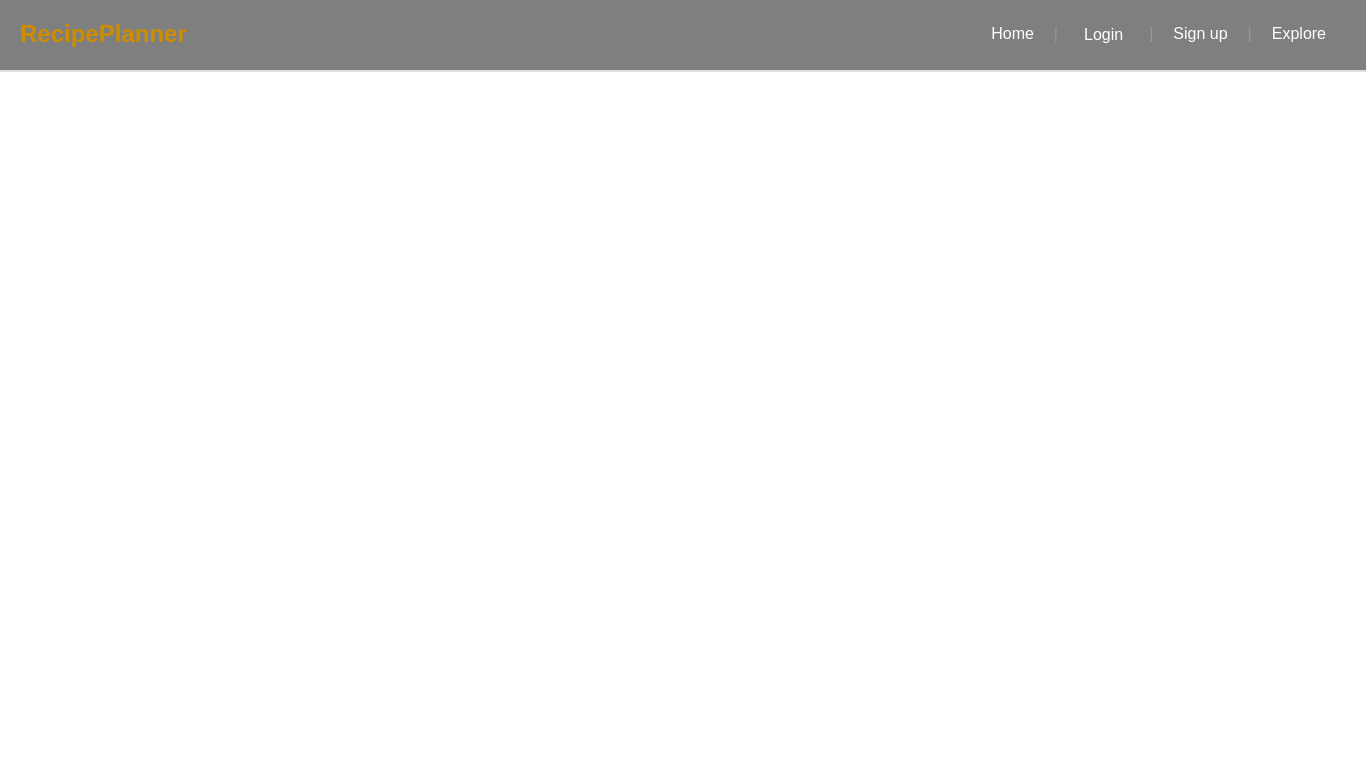
Test: Navbar Component › should display links and handle login modal correctly when user is not logged in
Expected: the link "Home" is shown, [991,25,1034,42]
Expected: the link "Sign up" is shown, [1173,25,1228,42]
// Click the Login button to open the modal
Click the button "Login": (1104, 35) [1078,25,1129,45]
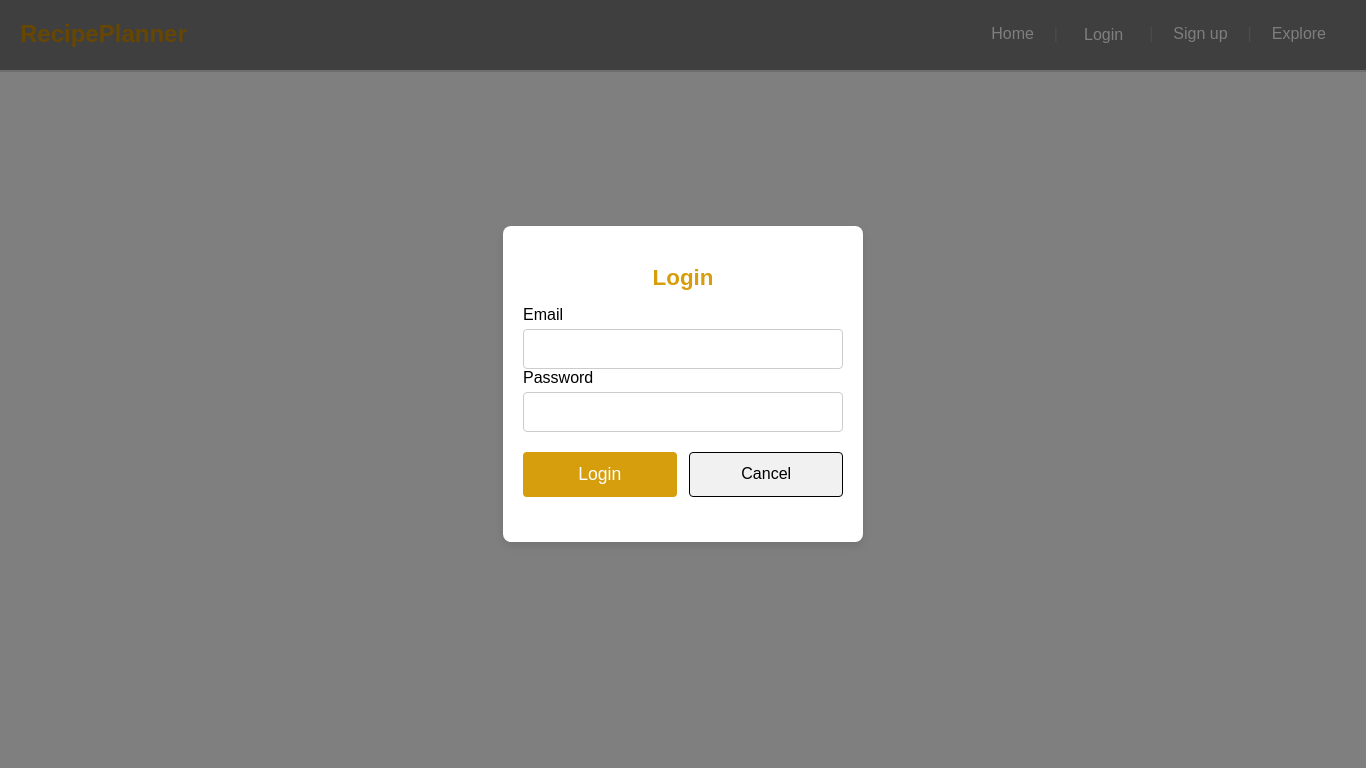
Expected: the element with class "modal-content" is shown, [503,226,863,542]
// Close the modal (assuming the modal has a button with text "Close")
Click the button "Cancel": (766, 475) [689,452,843,497]
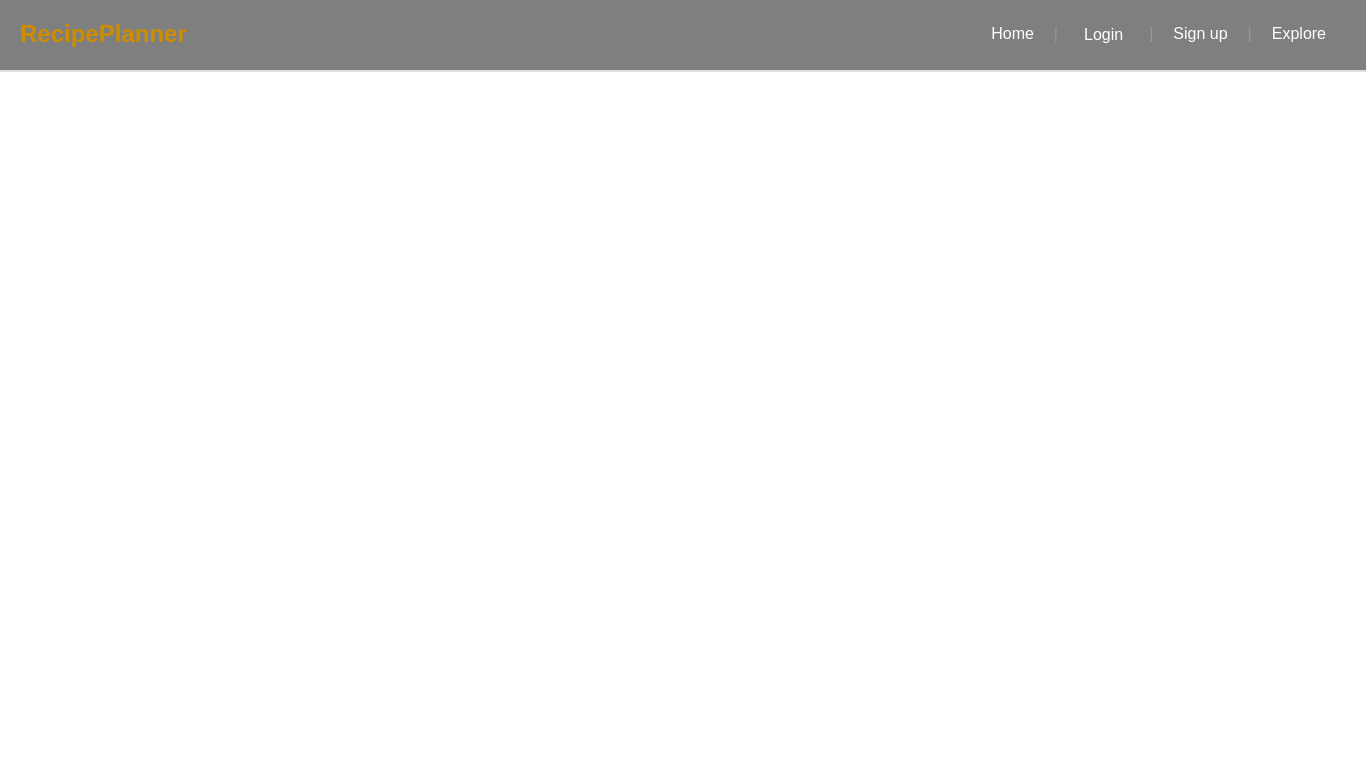
Expected: the element with class "modal-content" is gone
